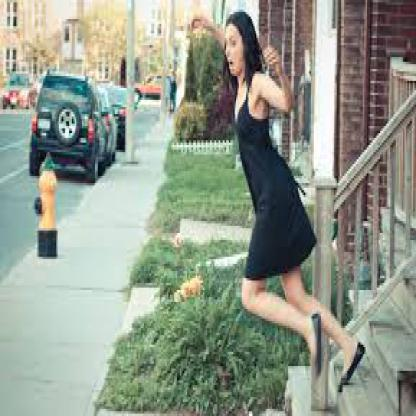Fall_Down: (186, 6, 370, 394)
